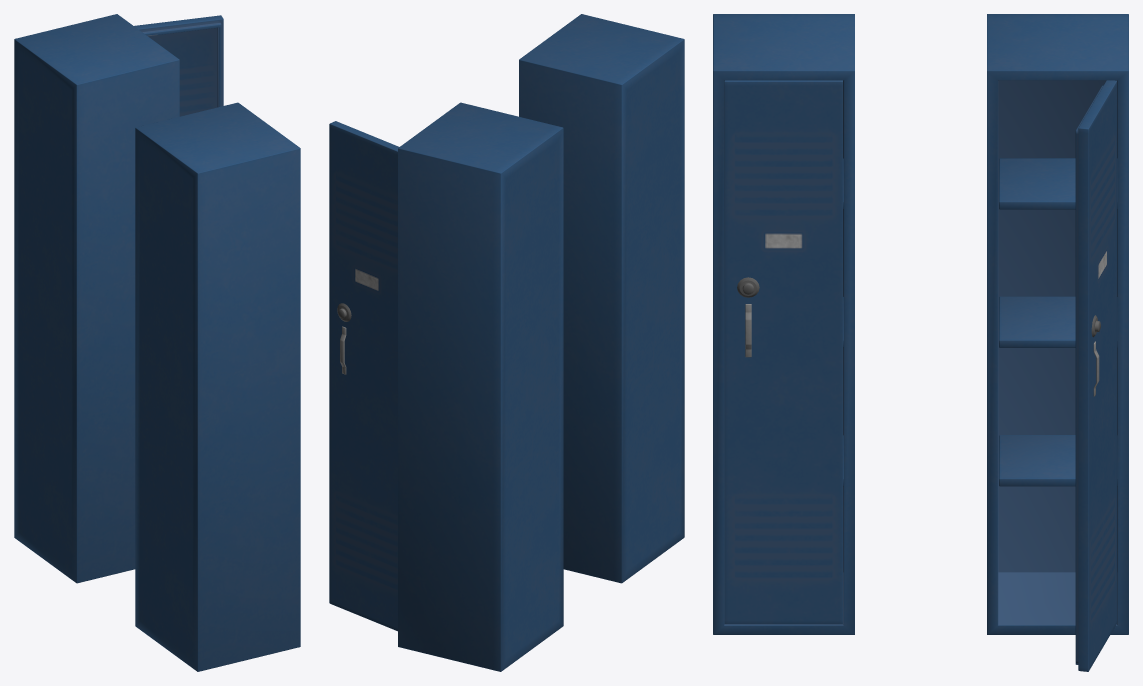
The picture shows the model from 3 angles, left to right: view 1: azimuth 30°, elevation 25°; view 2: azimuth 150°, elevation 25°; view 3: azimuth 270°, elevation 25°; orthographic projection. The views are drawn at different scales.
Visible parts, largest first — view 1: cabine low.010, cabine low.011; view 2: cabine low.011, cabine low.010; view 3: cabine low.011, cabine low.010.
Part boxes in pixels (bbox=[...]): cabine low.010: bbox=[135, 102, 300, 671]; cabine low.011: bbox=[14, 14, 223, 583]; cabine low.011: bbox=[329, 102, 563, 671]; cabine low.010: bbox=[519, 14, 684, 583]; cabine low.011: bbox=[987, 14, 1128, 671]; cabine low.010: bbox=[713, 14, 854, 634].
Size of the model in its own units: 0.7945 by 2 by 1.34.
Materials: 1 (1 with a texture image).
